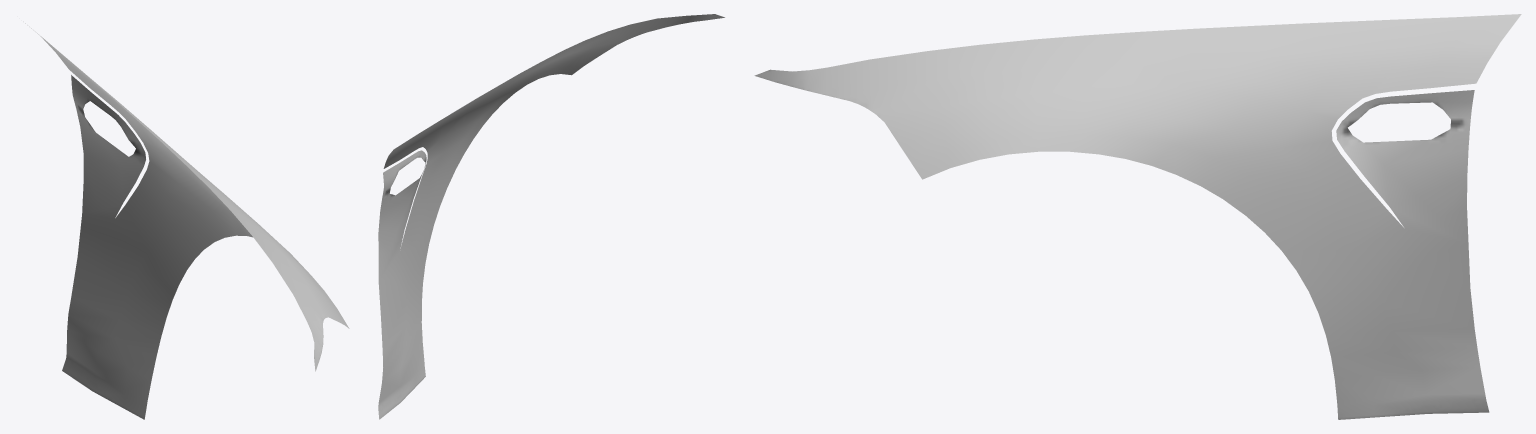
The model's file is M2drivfender.glb.
The picture shows the model from 3 angles, left to right: view 1: azimuth 30°, elevation 25°; view 2: azimuth 150°, elevation 25°; view 3: azimuth 270°, elevation 25°; orthographic projection. The views are drawn at different scales.
Visible parts, largest first — view 1: Object_23.004; view 2: Object_23.004; view 3: Object_23.004.
Part boxes in pixels (x1,y1,x2,y2): Object_23.004: (23,21,349,419); Object_23.004: (378,14,724,419); Object_23.004: (754,14,1521,419).
Size of the model in its own units: 0.2157 by 0.626 by 1.14.
1 material, 1 textured.
